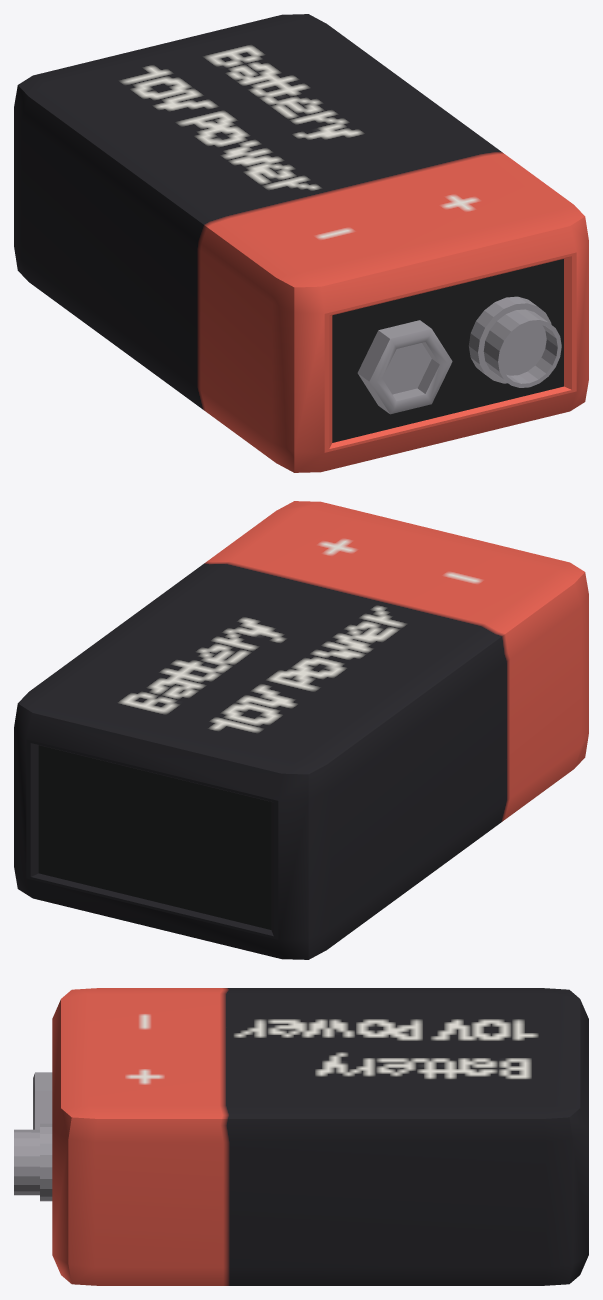
The model's file is Battery.fbx.
The picture shows the model from 3 angles, top to bottom: view 1: azimuth 30°, elevation 25°; view 2: azimuth 150°, elevation 25°; view 3: azimuth 270°, elevation 25°; orthographic projection. The views are drawn at different scales.
Visible parts, largest first — view 1: battery; view 2: battery; view 3: battery.
Part boxes in pixels (box(x1,y1,x2,y2)): battery: box(14, 14, 588, 472); battery: box(14, 501, 588, 959); battery: box(14, 988, 588, 1285).
Bounding box in the file's own units: 0.5512 × 0.3297 × 0.9858.
